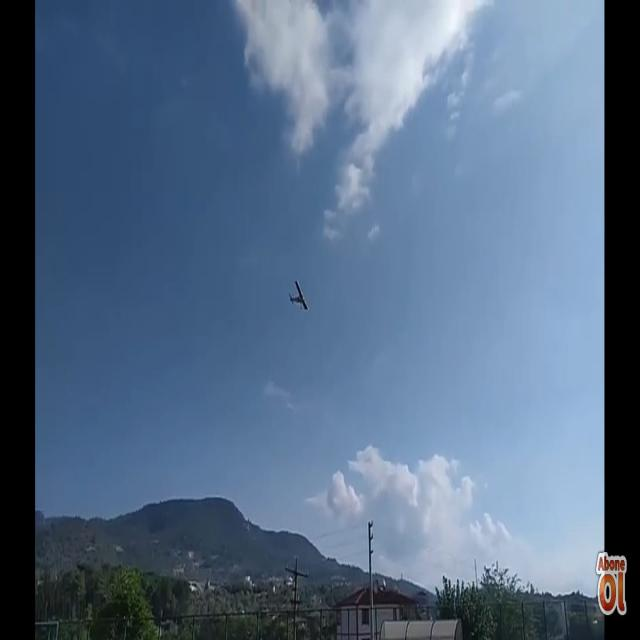iha: (288, 279, 310, 311)
